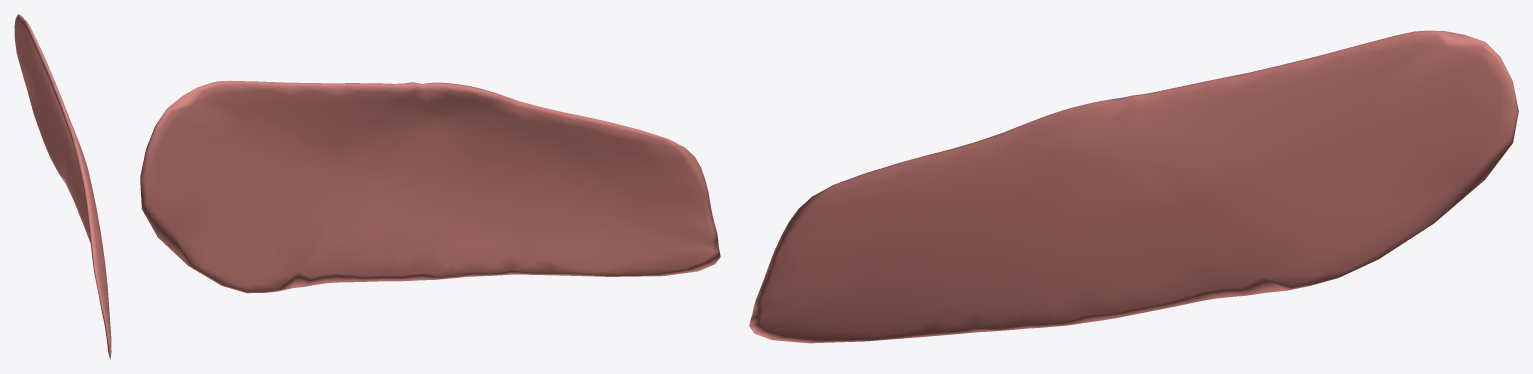
3 views of the same model, side by side, from view 1: azimuth 30°, elevation 25°; view 2: azimuth 150°, elevation 25°; view 3: azimuth 270°, elevation 25° (orthographic). The views are drawn at different scales.
Visible parts, largest first — view 1: ZA_b0740069f2b2eb49; view 2: ZA_b0740069f2b2eb49; view 3: ZA_b0740069f2b2eb49.
Boxes of the visible parts, x1=… form: ZA_b0740069f2b2eb49: x1=14, y1=14, x2=111, y2=358; ZA_b0740069f2b2eb49: x1=140, y1=80, x2=720, y2=293; ZA_b0740069f2b2eb49: x1=749, y1=30, x2=1518, y2=343.
Size of the model in its own units: 0.0117 by 0.0218 by 0.039.
